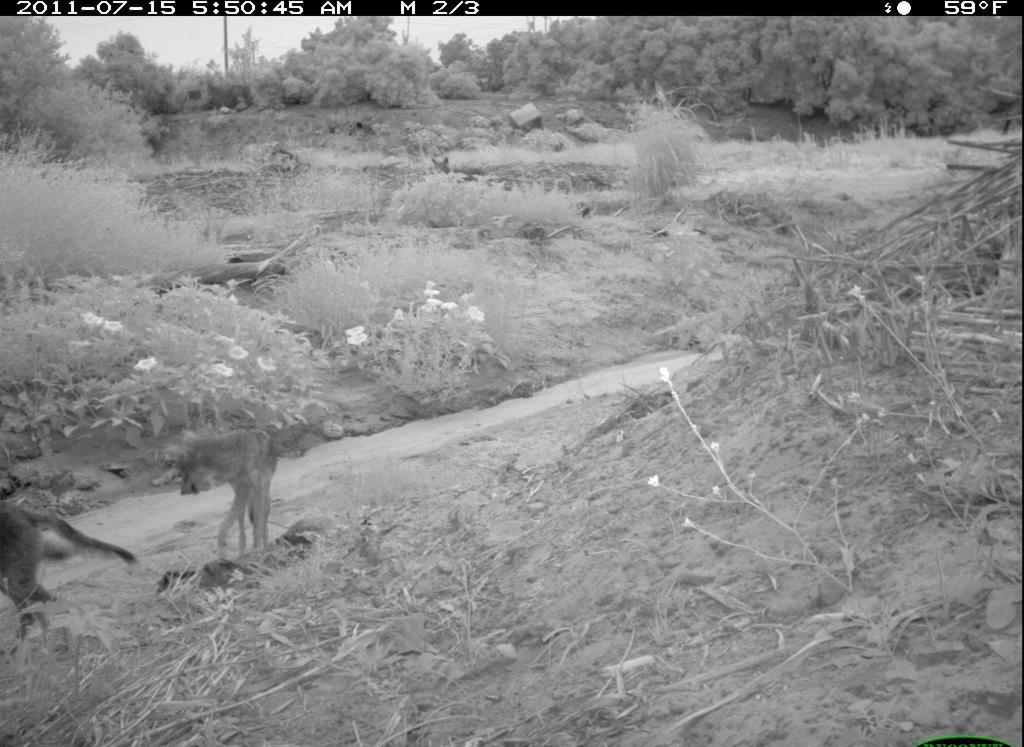coyote: (4, 497, 143, 661), (167, 422, 291, 565)
